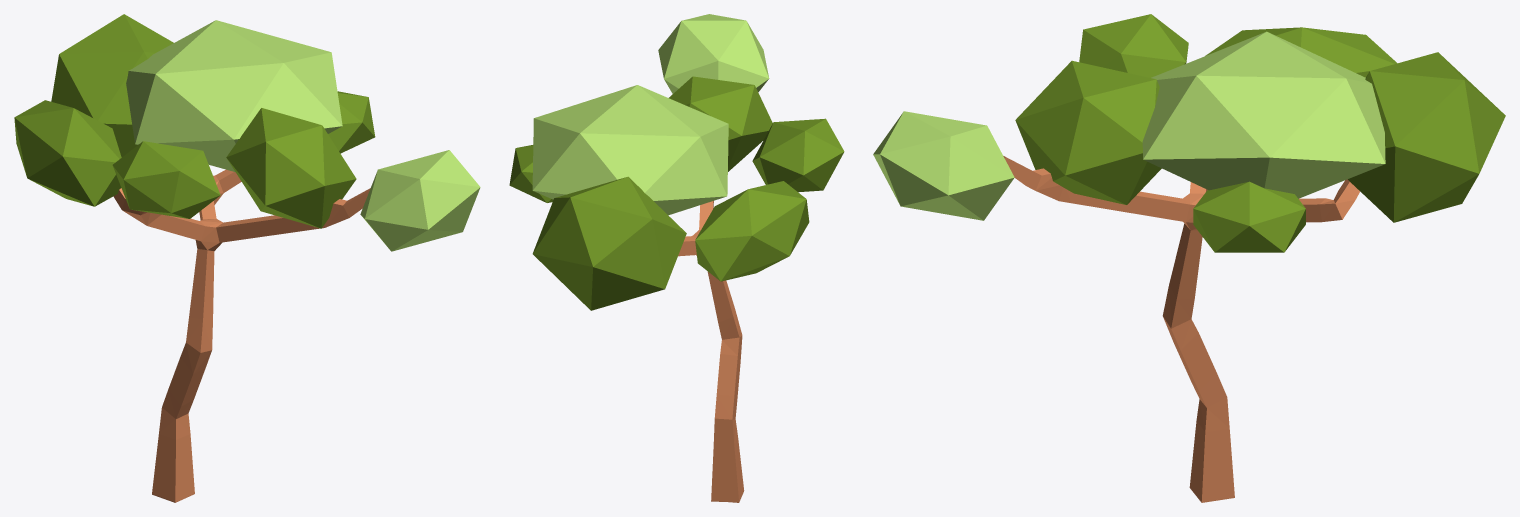
Rendered from savannah_tree1.obj.
The picture shows the model from 3 angles, left to right: view 1: azimuth 30°, elevation 25°; view 2: azimuth 150°, elevation 25°; view 3: azimuth 270°, elevation 25°; orthographic projection. The views are drawn at different scales.
Visible parts, largest first — view 1: Icosphere.007, Cube_Cube.001, Icosphere.004, Icosphere.005, Icosphere.002, Icosphere.001, Icosphere.003, Icosphere; view 2: Icosphere.007, Icosphere.001, Icosphere.002, Icosphere.005, Cube_Cube.001, Icosphere.003, Icosphere.004, Icosphere; view 3: Icosphere.007, Icosphere.001, Icosphere.004, Cube_Cube.001, Icosphere.005, Icosphere, Icosphere.003, Icosphere.002.
Boxes of the visible parts, box(x1,y1,x2,y2) form: Icosphere.007: box(126, 20, 342, 171); Cube_Cube.001: box(113, 169, 370, 502); Icosphere.004: box(226, 108, 356, 228); Icosphere.005: box(360, 150, 480, 251); Icosphere.002: box(14, 100, 121, 206); Icosphere.001: box(51, 14, 173, 157); Icosphere.003: box(112, 141, 220, 218); Icosphere: box(328, 91, 375, 153); Icosphere.007: box(532, 85, 728, 215); Icosphere.001: box(532, 176, 686, 310); Icosphere.002: box(695, 181, 809, 281); Icosphere.005: box(658, 14, 769, 93); Cube_Cube.001: box(678, 201, 744, 502); Icosphere.003: box(752, 118, 844, 192); Icosphere.004: box(669, 76, 772, 171); Icosphere: box(509, 145, 553, 202); Icosphere.007: box(1142, 31, 1385, 198); Icosphere.001: box(1348, 52, 1505, 222); Icosphere.004: box(1015, 60, 1161, 204); Cube_Cube.001: box(1003, 156, 1359, 502); Icosphere.005: box(873, 111, 1014, 220); Icosphere: box(1193, 181, 1305, 252); Icosphere.003: box(1079, 14, 1188, 77); Icosphere.002: box(1205, 27, 1396, 77).
Bounding box in the file's own units: 6.4 × 7.92 × 9.55.
